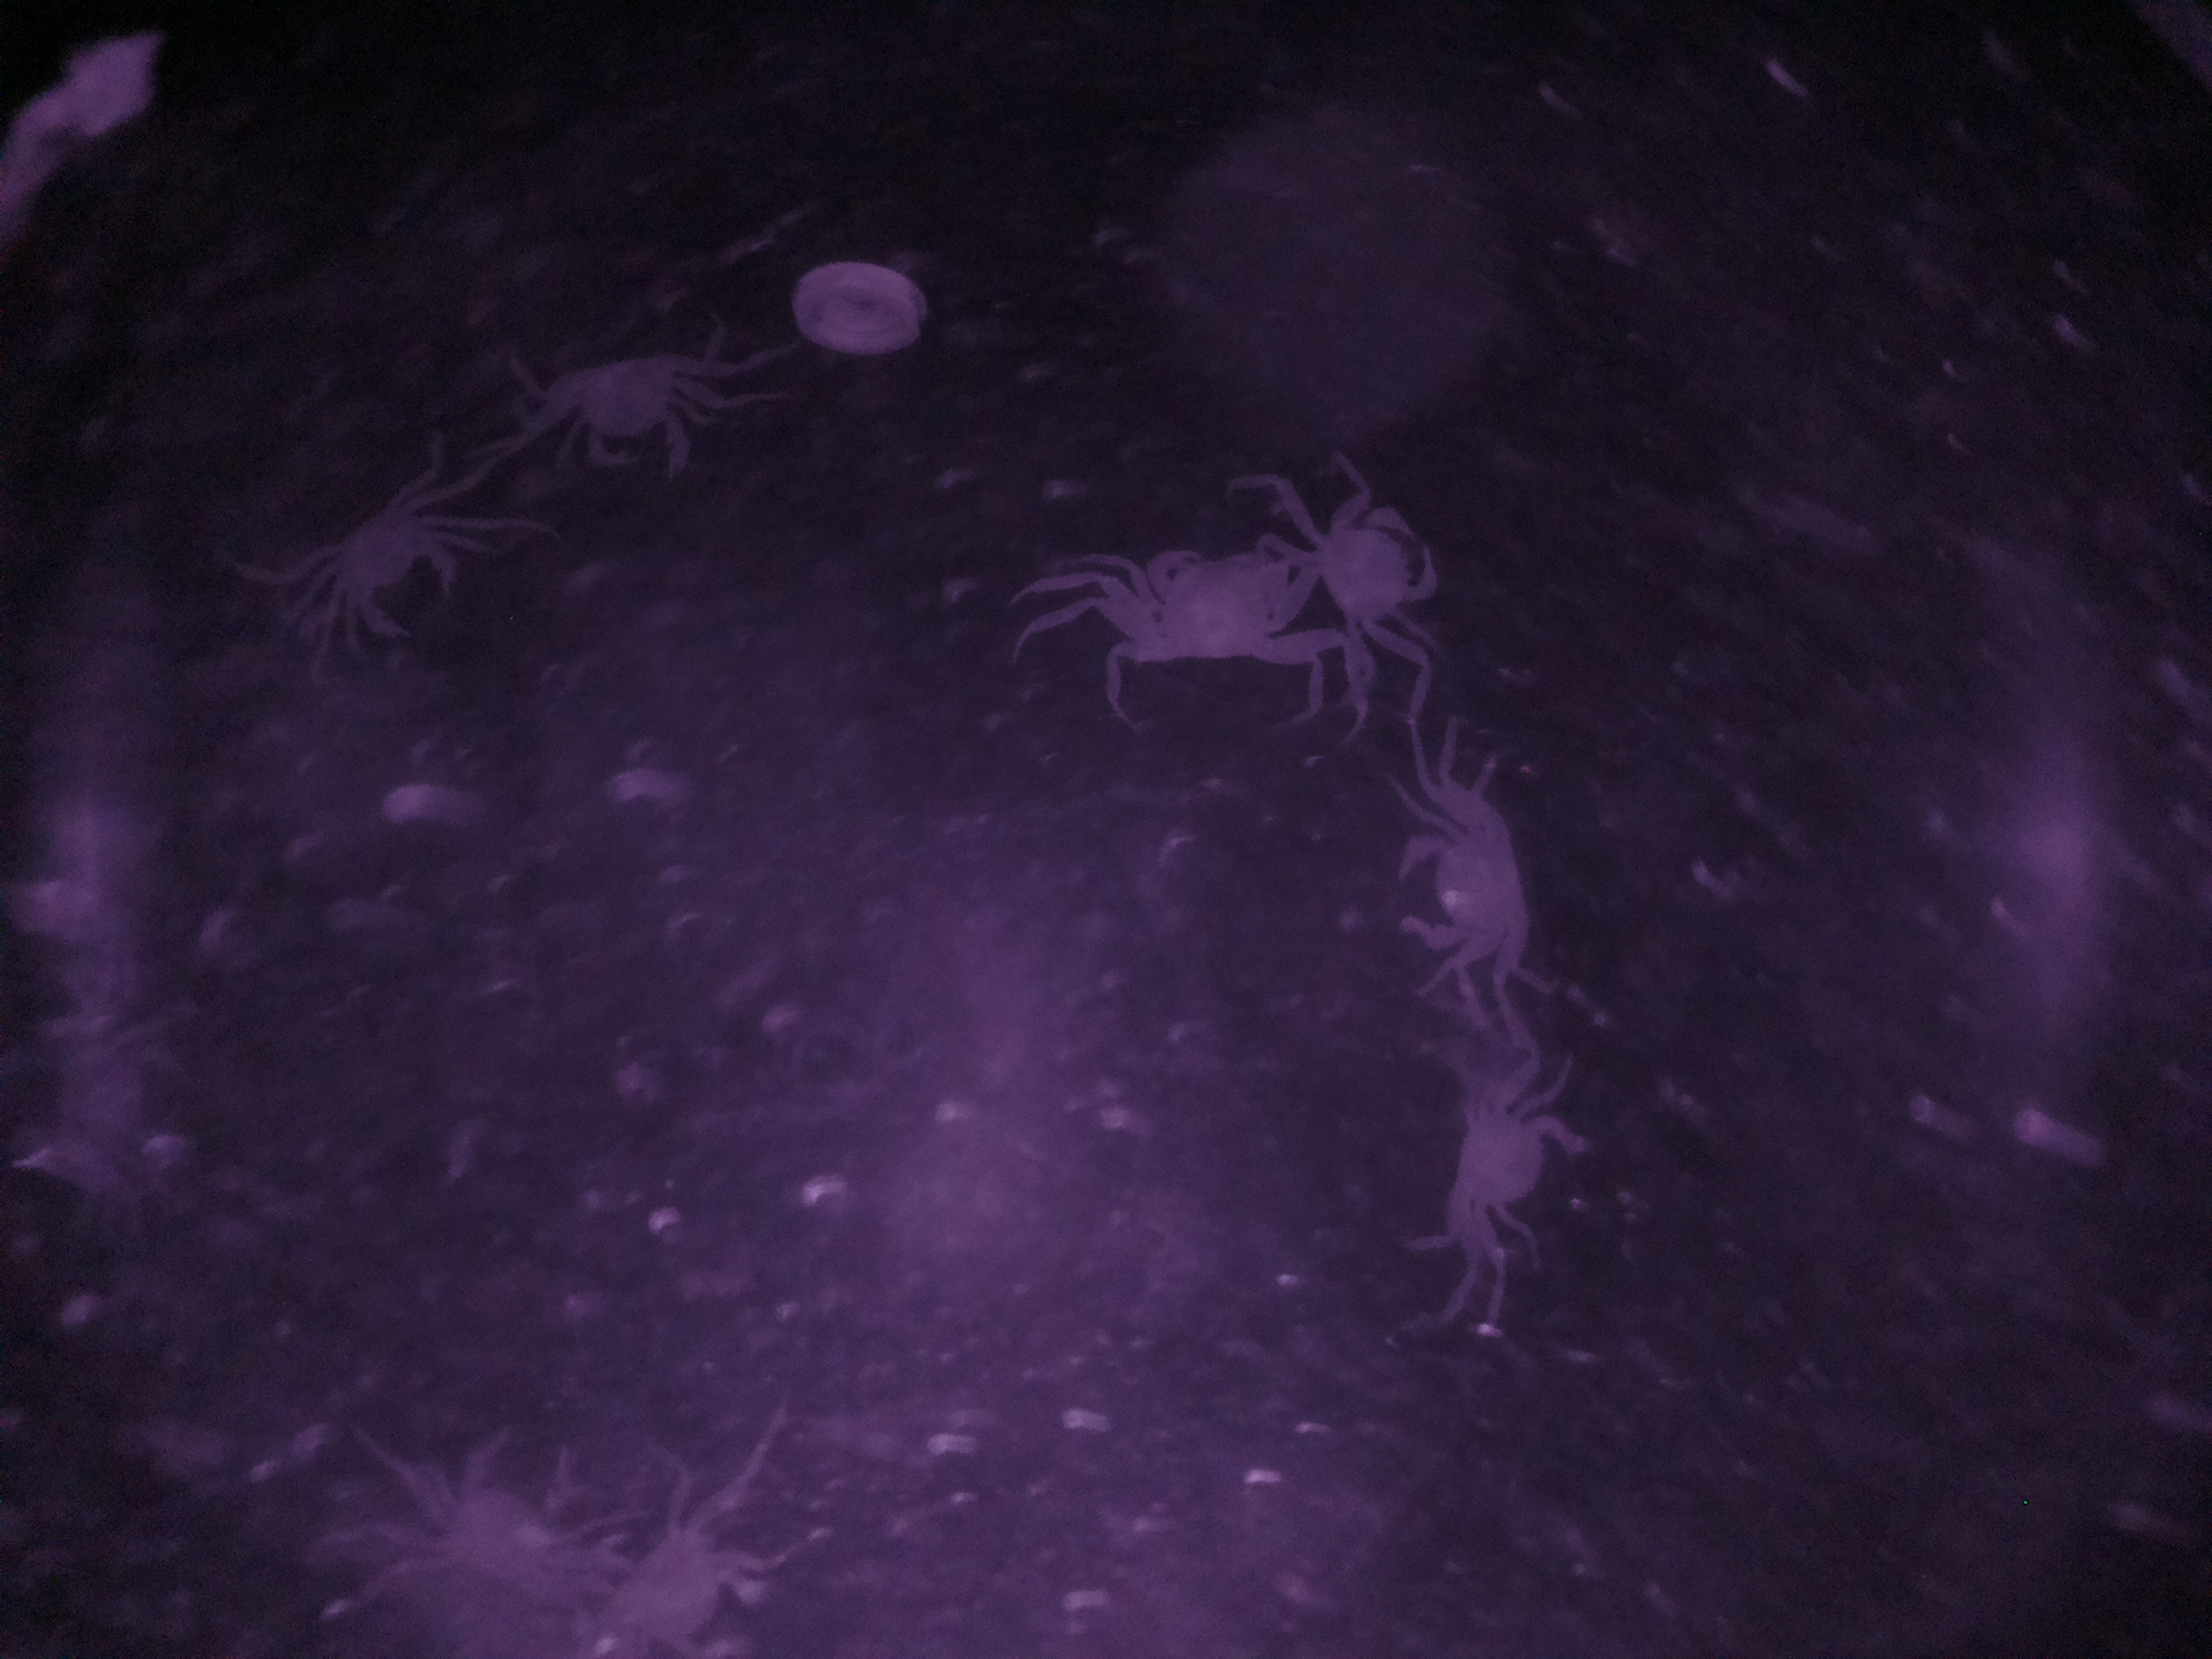Crab: (1085, 509, 1327, 697), (1407, 1047, 1588, 1297), (526, 331, 744, 519), (1372, 793, 1552, 1006)
